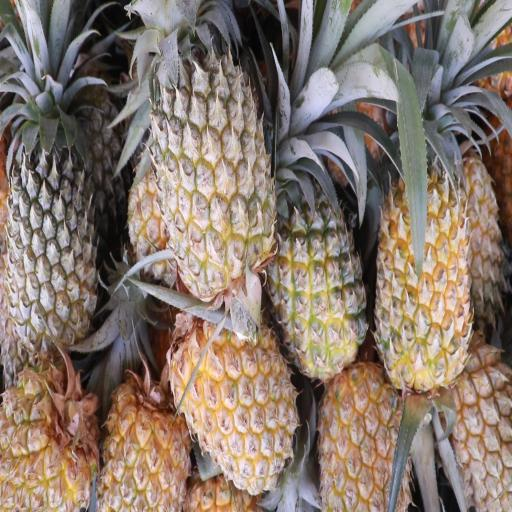------------------------------: (149, 0, 281, 310), (265, 130, 370, 382)
Pineapple - v8 v1: (371, 97, 478, 397), (166, 299, 300, 495), (0, 360, 111, 510), (316, 358, 418, 512), (94, 372, 193, 512), (445, 504, 451, 512)
